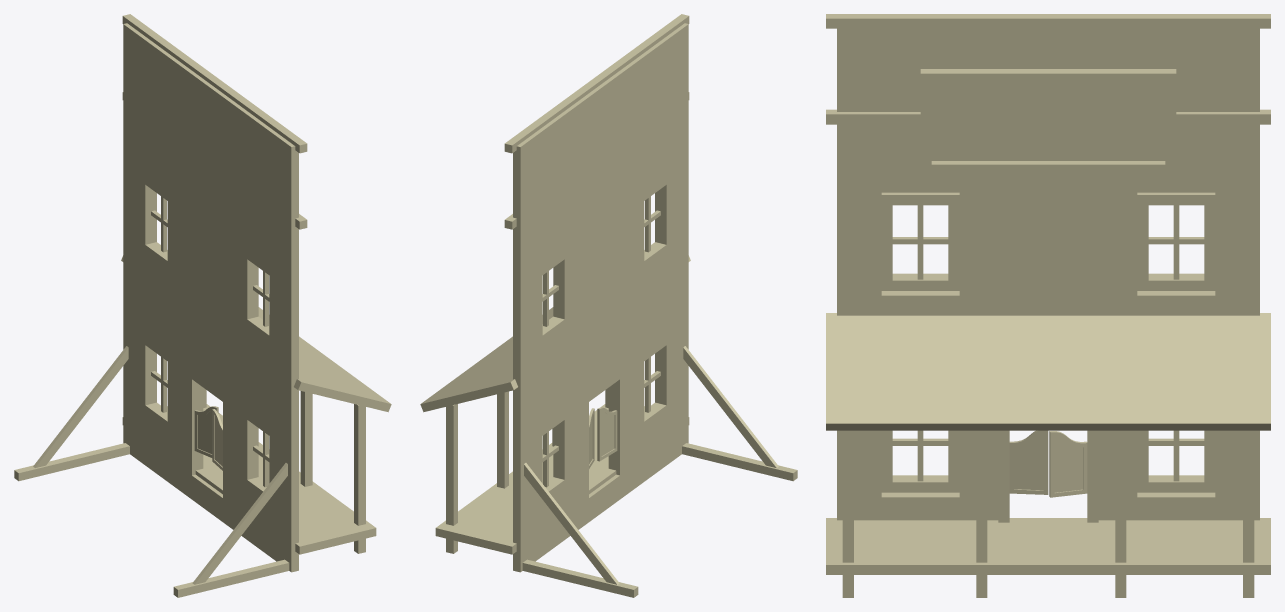
The model's file is Western_Facade_01.FBX.
3 renders of one model, left to right at view 1: azimuth 30°, elevation 25°; view 2: azimuth 150°, elevation 25°; view 3: azimuth 270°, elevation 25°, orthographic. The views are drawn at different scales.
Visible parts, largest first — view 1: Building_00; view 2: Building_00; view 3: Building_00.
Part boxes in pixels (left/top/right/bottom): Building_00: left=14, top=14, right=391, bottom=597; Building_00: left=420, top=14, right=797, bottom=597; Building_00: left=826, top=14, right=1270, bottom=597.
Bounding box in the file's own units: 540 × 800 × 1070.
